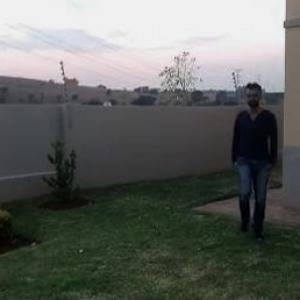follow: (232, 74, 294, 260)
